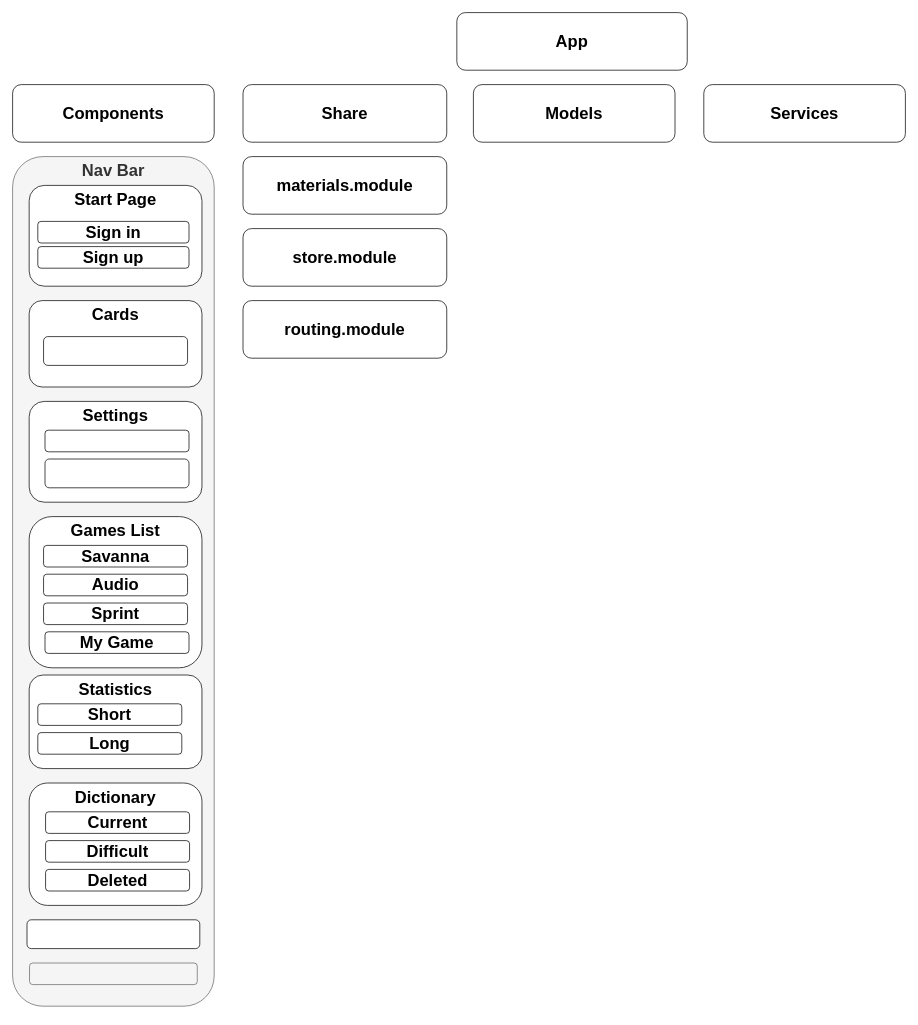
Image size: 918x1025. Some labels were removed from this diagram. The centre of each missing label's shape, as x and y in pixels:
"About Us" goes at point 113,934.
"Card item" goes at point 115,350.
"footer" goes at point 113,973.
"User Set" goes at point 116,440.
"Word Set" goes at point 116,473.
